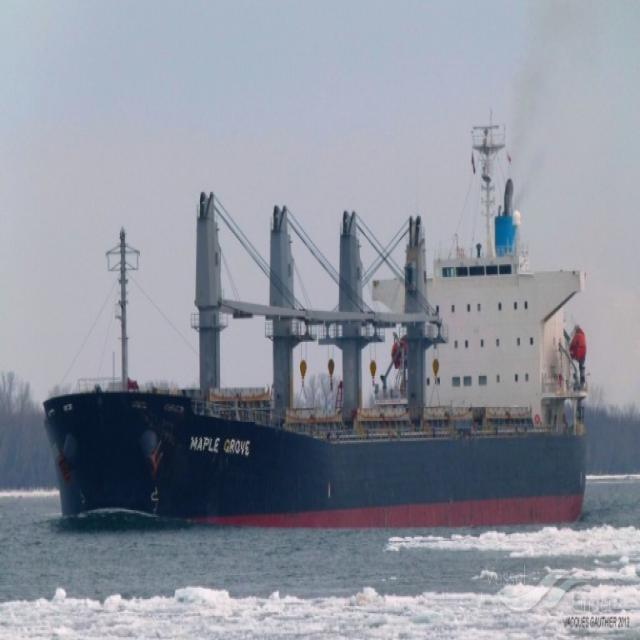OCR: (177, 422, 255, 475)
